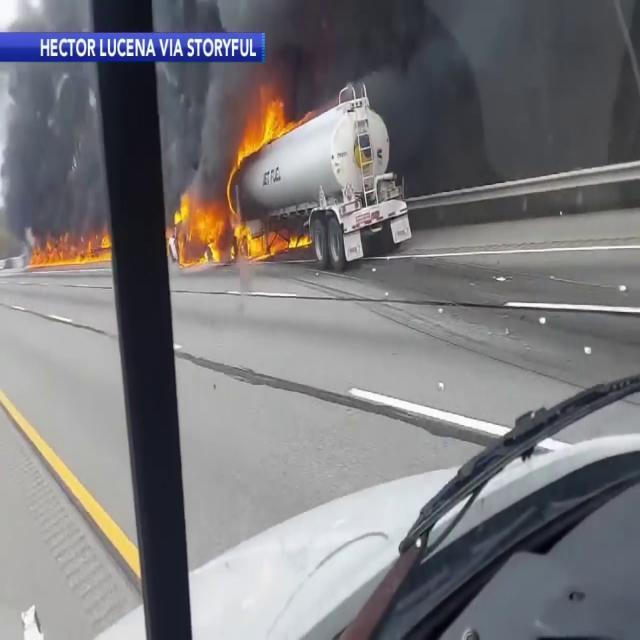Fire: (167, 96, 317, 272), (165, 153, 318, 269), (240, 90, 304, 154)
Smoke: (0, 0, 571, 124)
